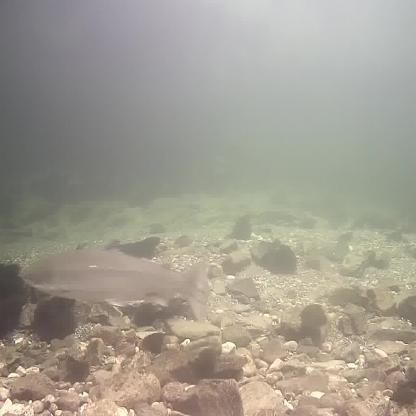salmon: (17, 238, 211, 326)
